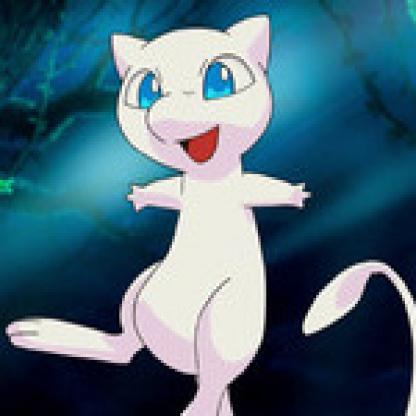Mew: (1, 7, 414, 414)
